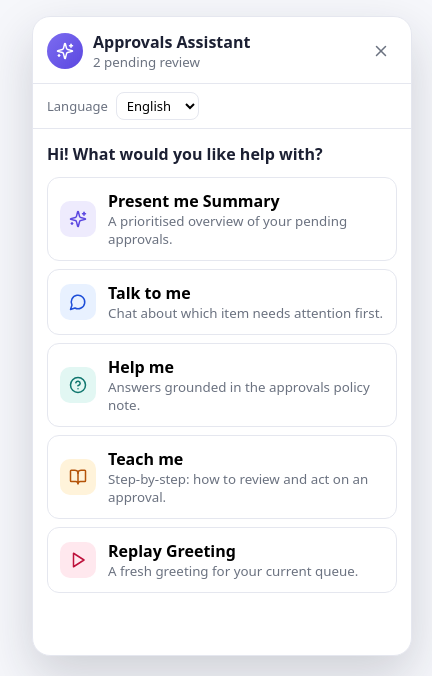
ChatPanel structure › collapses to a launcher on close and re-opens
Click the button named "close assistant": click(381, 51) [365, 35, 397, 67]
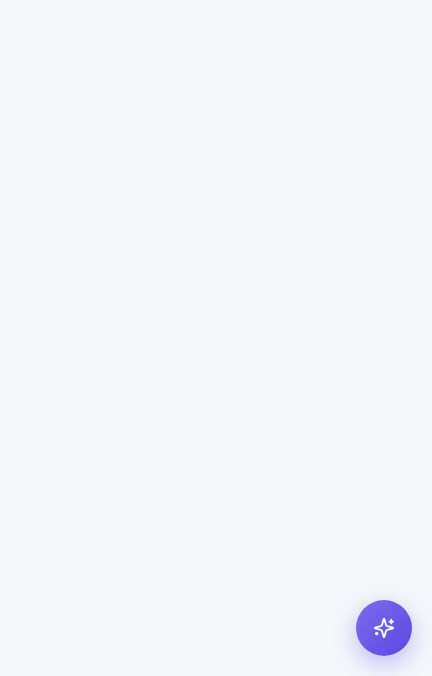
Result: the text "Approvals Assistant" is gone
Click the button named "open approvals assistant": click(384, 628) [356, 600, 412, 656]
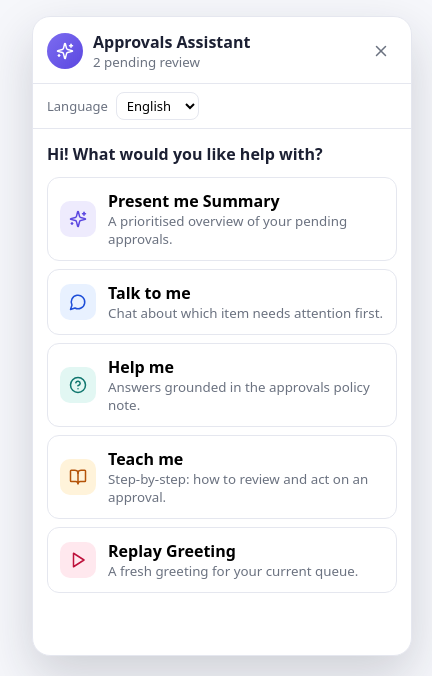
Result: the text "Approvals Assistant" is shown at [93, 31, 250, 53]
